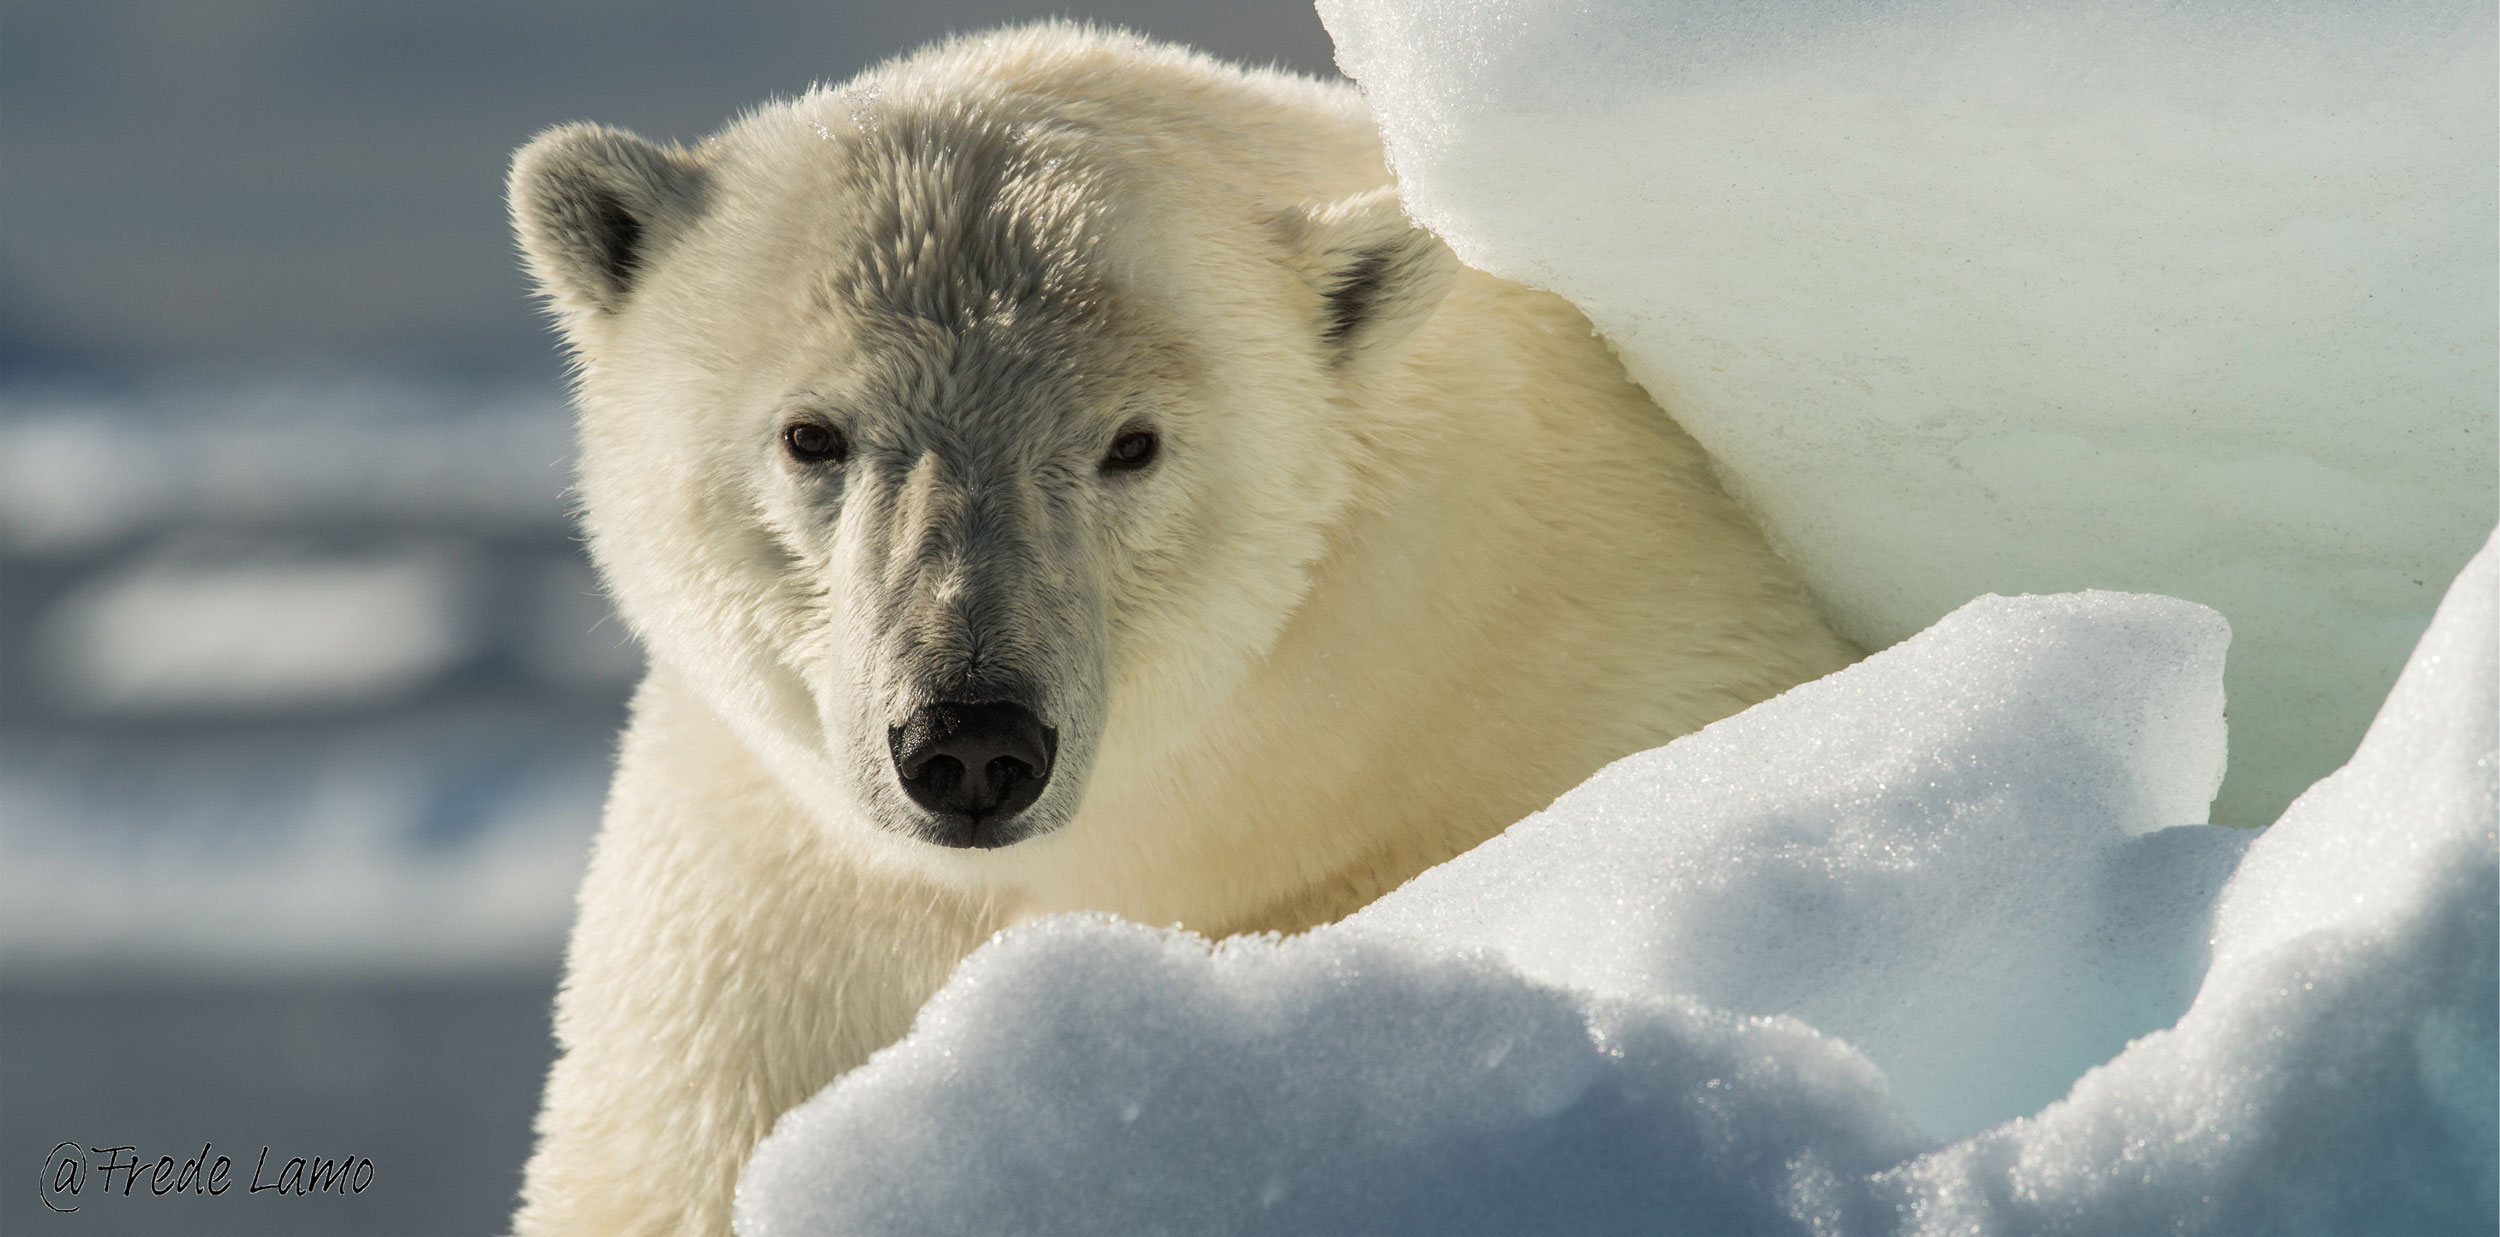Polar Bear: (421, 33, 1736, 1237)
